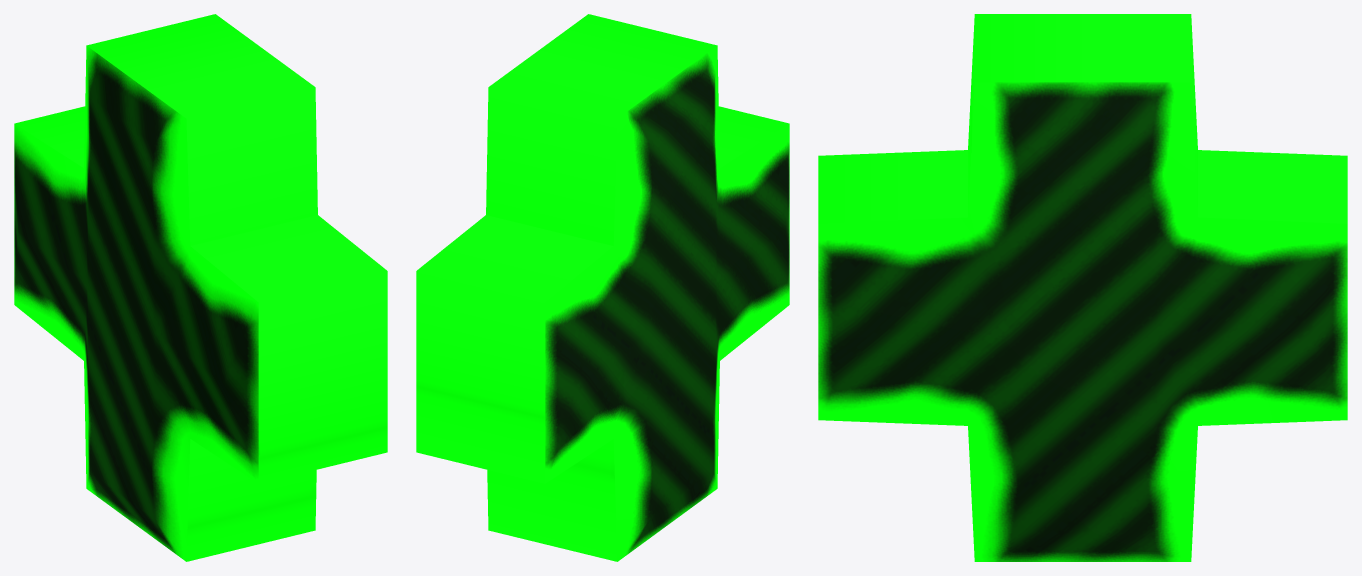
File: aegis-repair-cross.glb
The picture shows the model from 3 angles, left to right: view 1: azimuth 30°, elevation 25°; view 2: azimuth 150°, elevation 25°; view 3: azimuth 270°, elevation 25°; orthographic projection. The views are drawn at different scales.
Visible parts, largest first — view 1: aegis_rapairpod; view 2: aegis_rapairpod; view 3: aegis_rapairpod.
Boxes of the visible parts, box(x1,y1,x2,y2) form: aegis_rapairpod: box(14, 14, 387, 561); aegis_rapairpod: box(416, 14, 789, 561); aegis_rapairpod: box(818, 14, 1347, 561).
Bounding box in the file's own units: 9.35 × 24.91 × 24.91.
1 material, 1 textured.
